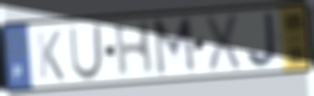H: (112, 19, 155, 80)
J: (244, 10, 281, 70)
K: (34, 28, 67, 83)
M: (150, 14, 199, 80)
U: (67, 22, 105, 83)
X: (202, 12, 244, 75)
